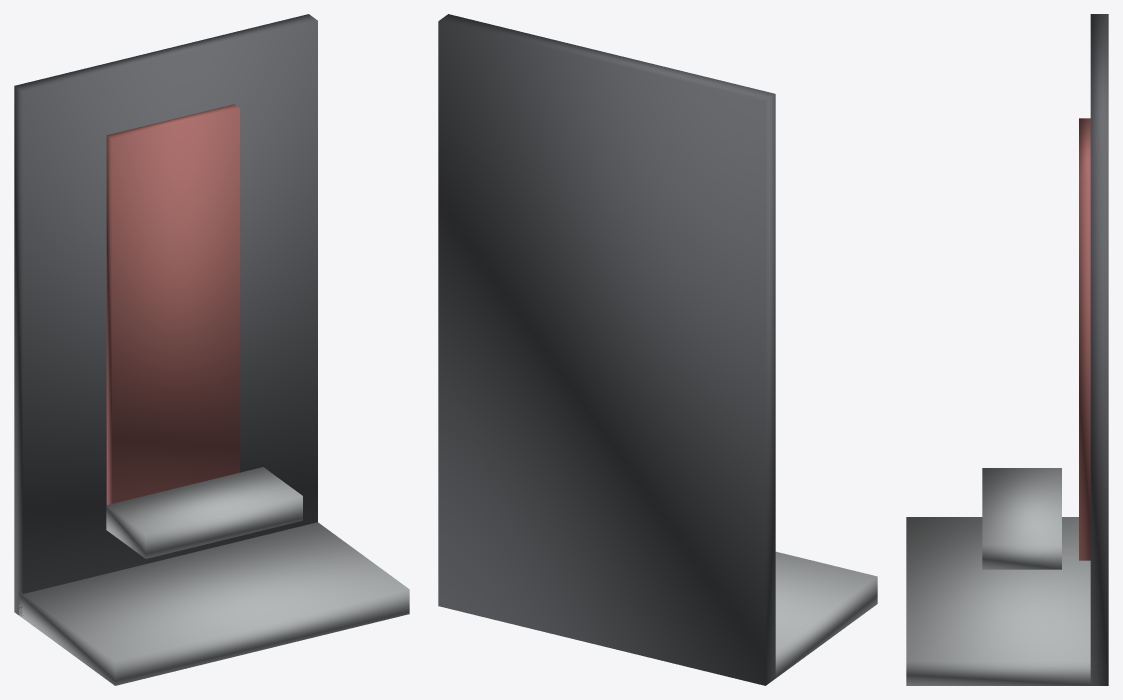
File: roof_access_hatch_stair_19.glb
The picture shows the model from 3 angles, left to right: view 1: azimuth 30°, elevation 25°; view 2: azimuth 150°, elevation 25°; view 3: azimuth 270°, elevation 25°; orthographic projection. The views are drawn at different scales.
Parts seen in each view (by area): view 1: world; view 2: world; view 3: world.
Part boxes in pixels (box(x1,y1,x2,y2)): world: box(14, 14, 409, 685); world: box(438, 14, 877, 685); world: box(906, 14, 1108, 685).
Bounding box in the file's own units: 1.5 × 2.56 × 0.89.
